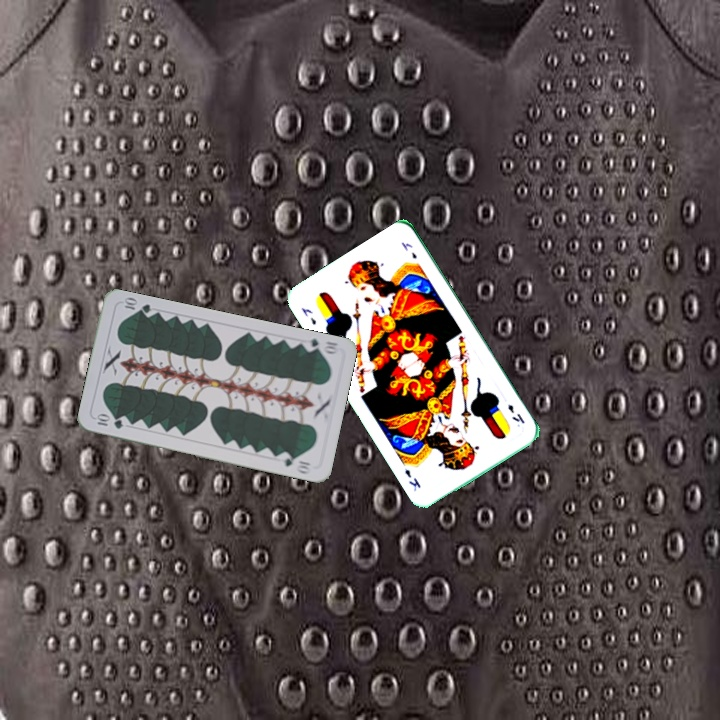EK: (504, 400, 527, 426), (297, 303, 319, 327)
G10: (300, 334, 341, 357), (92, 411, 126, 431)
